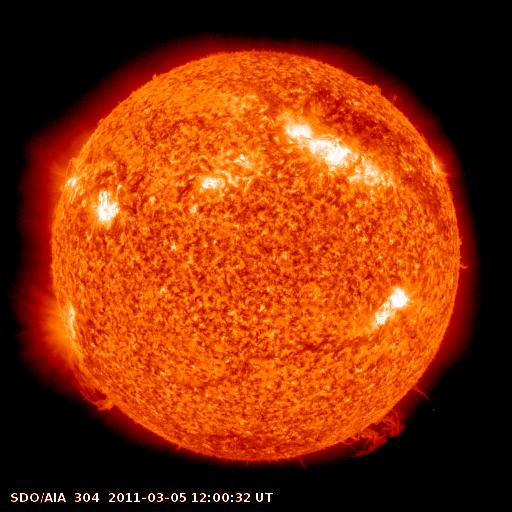prominence: (326, 379, 443, 460), (62, 355, 121, 419), (353, 66, 402, 104)
